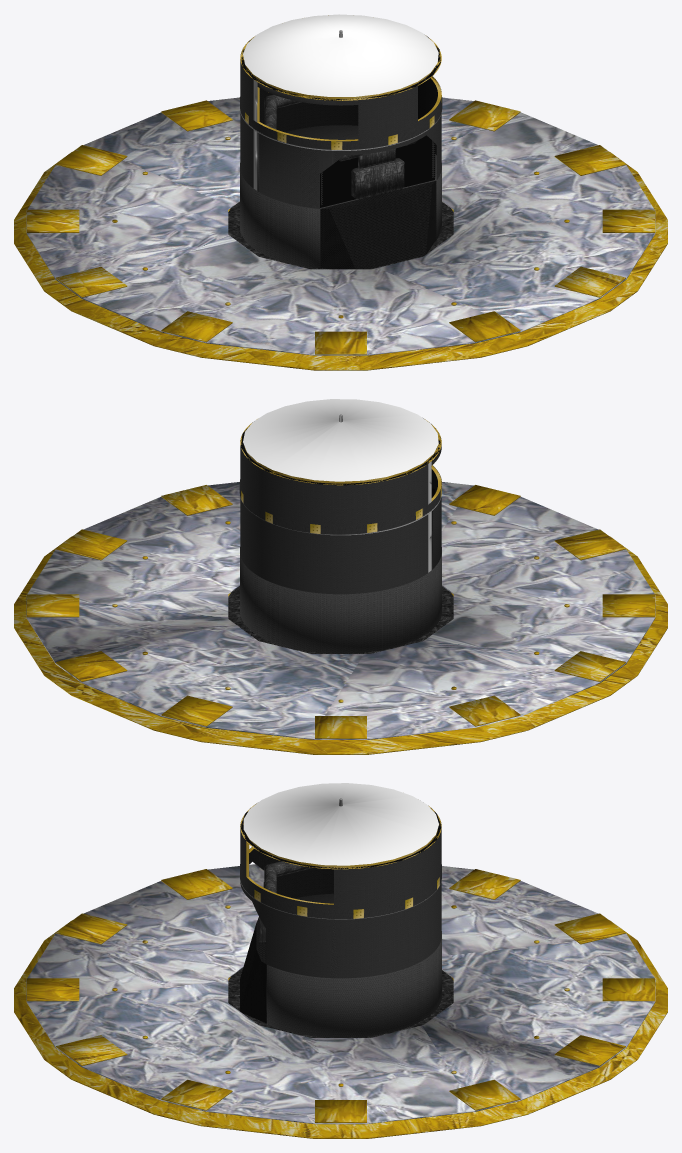
The model's file is gaia.obj.
3 renders of one model, top to bottom at view 1: azimuth 30°, elevation 25°; view 2: azimuth 150°, elevation 25°; view 3: azimuth 270°, elevation 25°, orthographic.
Parts seen in each view (by area): view 1: Sunshield-top_Circle.000, GoldenSquares_Cube, Sunshield-bottom_Circle.003, Top_Circle.001, TTS_Cylinder, Instr1_Cube.002, ServiceModule-bottom_Cylinder.004, TTS-inner_Cylinder.002, Plane_Plane.001, Instr2_Cube.003, Hook-tex_Cylinder.003, GoldenBorders_Cylinder.001 (+3 smaller); view 2: Sunshield-top_Circle.000, TTS_Cylinder, GoldenSquares_Cube, Sunshield-bottom_Circle.003, Top_Circle.001, ServiceModule-bottom_Cylinder.004, Hook-tex_Cylinder.003, Floor_Circle.004, GoldenBorders_Cylinder.001, Top-ceiling_Circle.002; view 3: Sunshield-top_Circle.000, TTS_Cylinder, GoldenSquares_Cube, Sunshield-bottom_Circle.003, Top_Circle.001, ServiceModule-bottom_Cylinder.004, Hook-tex_Cylinder.003, Instr1_Cube.002, TTS-inner_Cylinder.002, Floor_Circle.004, GoldenBorders_Cylinder.001, Torus_Torus.001 (+1 smaller).
Boxes of the visible parts, box(x1,y1,x2,y2) form: Sunshield-top_Circle.000: box(26, 97, 655, 355); GoldenSquares_Cube: box(27, 100, 654, 354); Sunshield-bottom_Circle.003: box(14, 152, 667, 370); Top_Circle.001: box(243, 14, 438, 96); TTS_Cylinder: box(240, 41, 441, 208); Instr1_Cube.002: box(320, 180, 436, 269); ServiceModule-bottom_Cylinder.004: box(240, 125, 441, 268); TTS-inner_Cylinder.002: box(241, 64, 438, 154); Plane_Plane.001: box(320, 135, 434, 207); Instr2_Cube.003: box(351, 148, 404, 199); Hook-tex_Cylinder.003: box(240, 95, 442, 150); GoldenBorders_Cylinder.001: box(240, 15, 441, 141); Sunshield-top_Circle.000: box(26, 482, 655, 739); TTS_Cylinder: box(240, 418, 441, 594); GoldenSquares_Cube: box(27, 485, 654, 738); Sunshield-bottom_Circle.003: box(14, 536, 667, 754); Top_Circle.001: box(243, 399, 438, 481); ServiceModule-bottom_Cylinder.004: box(240, 547, 441, 653); Hook-tex_Cylinder.003: box(239, 465, 441, 535); Floor_Circle.004: box(228, 586, 453, 653); GoldenBorders_Cylinder.001: box(240, 419, 441, 501); Top-ceiling_Circle.002: box(241, 424, 440, 484); Sunshield-top_Circle.000: box(26, 864, 655, 1124); TTS_Cylinder: box(240, 803, 441, 978); GoldenSquares_Cube: box(27, 869, 654, 1122); Sunshield-bottom_Circle.003: box(14, 920, 667, 1138); Top_Circle.001: box(243, 783, 438, 865); ServiceModule-bottom_Cylinder.004: box(266, 893, 441, 1037); Hook-tex_Cylinder.003: box(240, 847, 441, 919); Instr1_Cube.002: box(240, 917, 266, 1023); TTS-inner_Cylinder.002: box(241, 833, 440, 898); Floor_Circle.004: box(228, 968, 453, 1037); GoldenBorders_Cylinder.001: box(240, 804, 441, 904); Torus_Torus.001: box(264, 861, 313, 893).
Size of the model in its own units: 1 by 0.3476 by 1.
